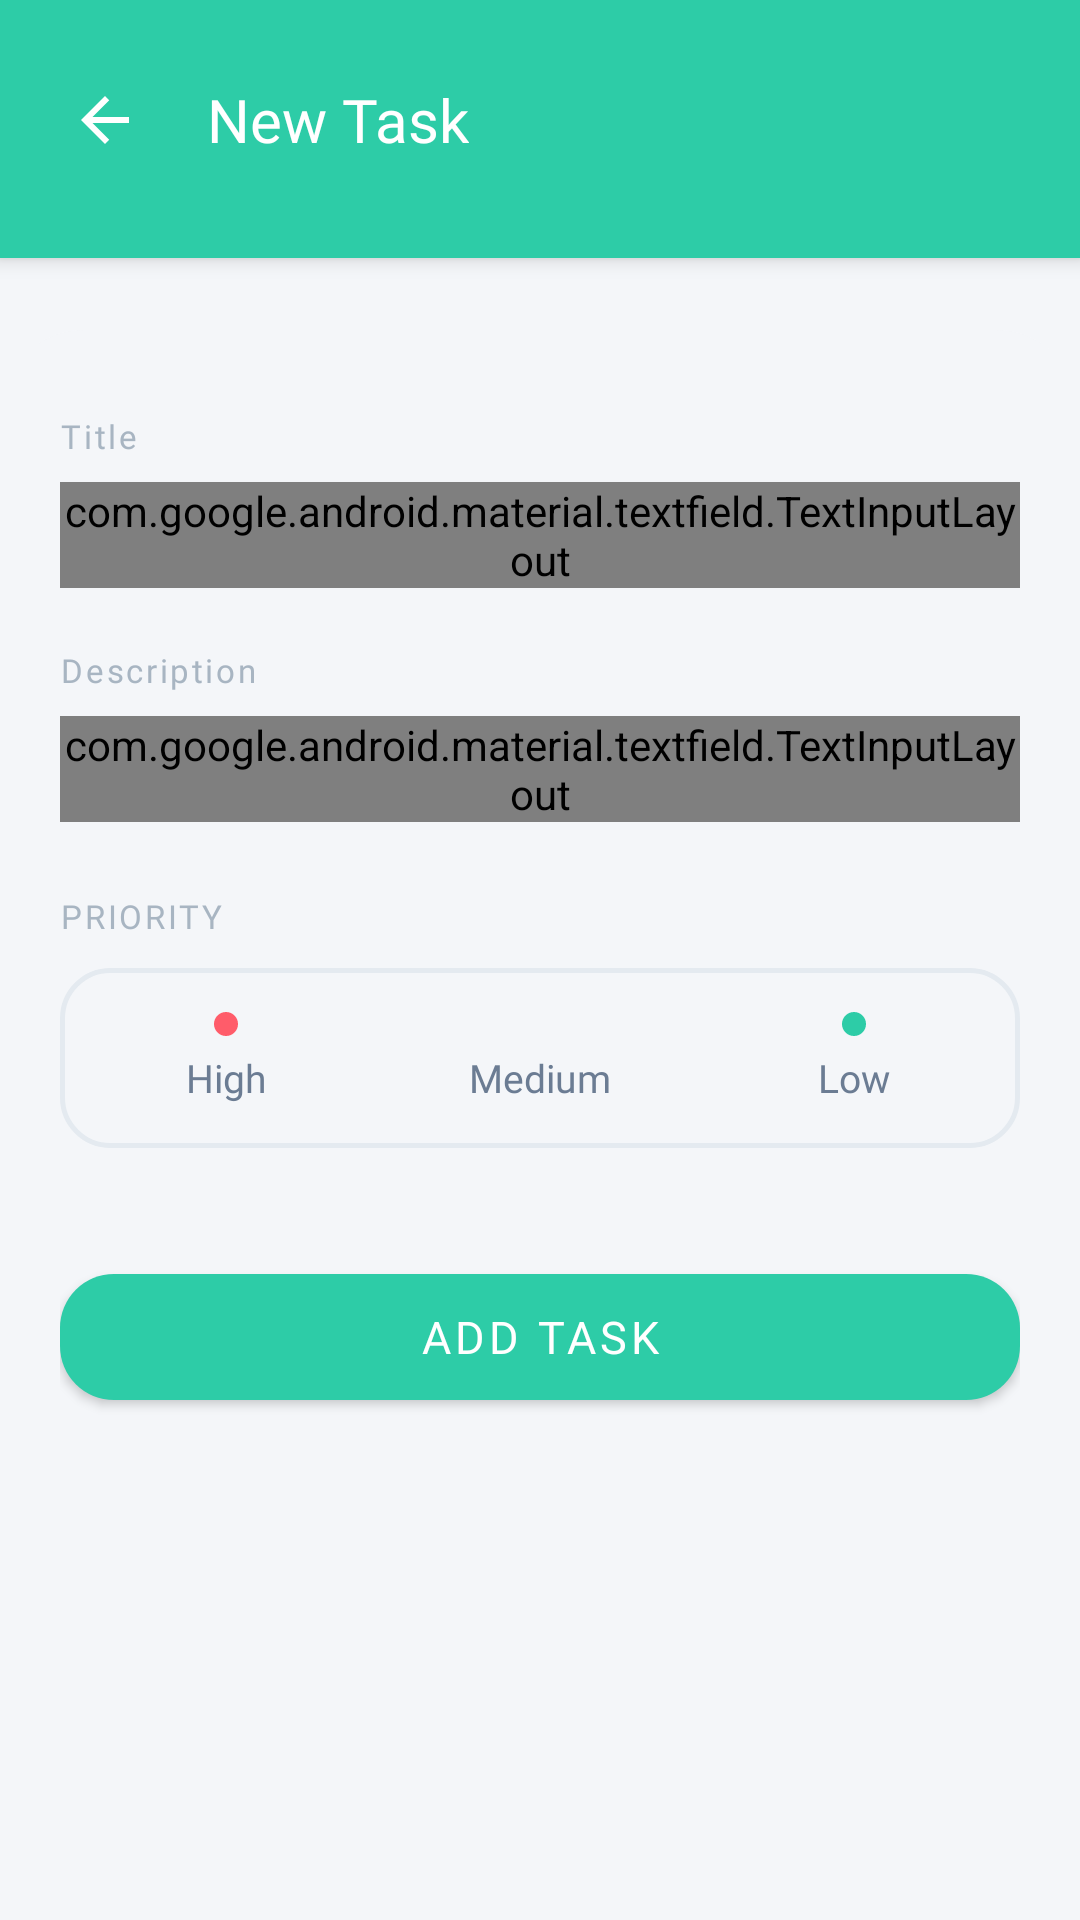

Icon click points for this 1080px x 1920px phone screenshot, format point (x, y):
Back: point (105, 120)
